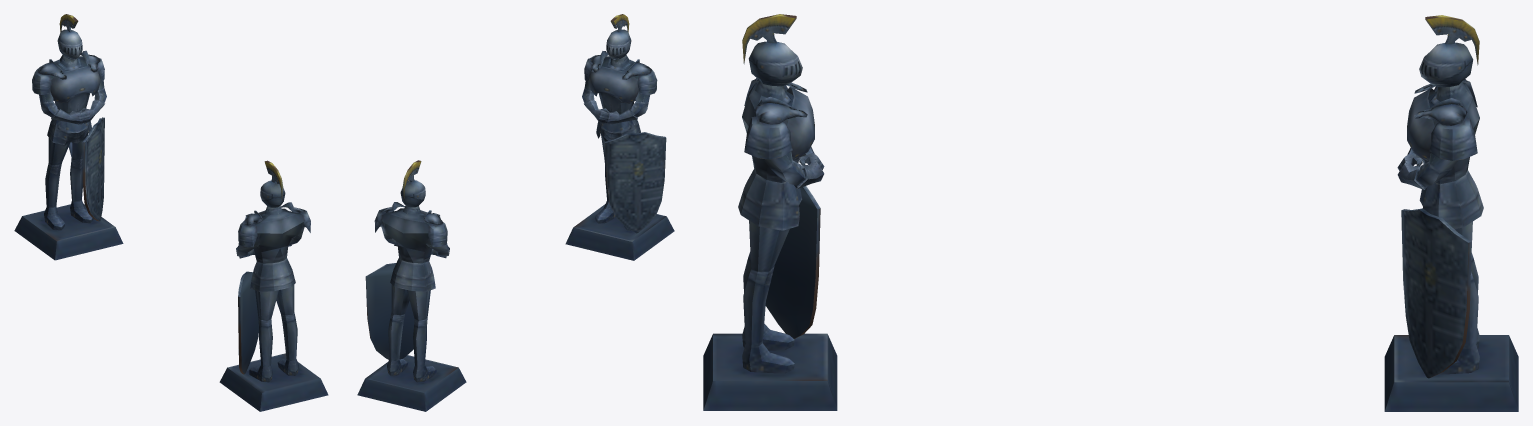
Rendered from wujian50.fbx.
3 views of the same model, side by side, from view 1: azimuth 30°, elevation 25°; view 2: azimuth 150°, elevation 25°; view 3: azimuth 270°, elevation 25° (orthographic). The views are drawn at different scales.
Parts seen in each view (by area): view 1: wujian50; view 2: wujian50; view 3: wujian50.
Part boxes in pixels (left/top/right/bottom): wujian50: left=14, top=14, right=328, bottom=411; wujian50: left=357, top=14, right=674, bottom=411; wujian50: left=703, top=14, right=1518, bottom=411.
Bounding box in the file's own units: 256 × 653 × 1311.
1 material, 1 textured.
